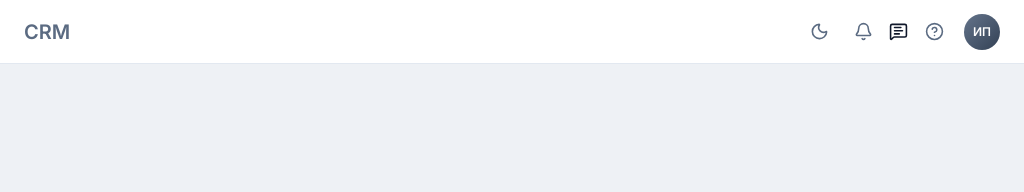
Topbar › открывает уведомления и грузит события
The image size is (1024, 192).
Click the button titled "Уведомления".
click(863, 32)  # box [845,14,881,50]
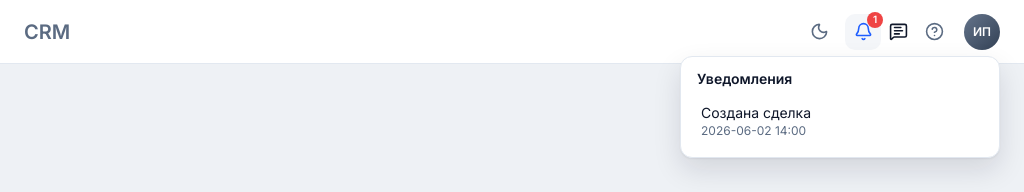
Check: the text "Создана сделка" is shown, box [701,104,811,121]
